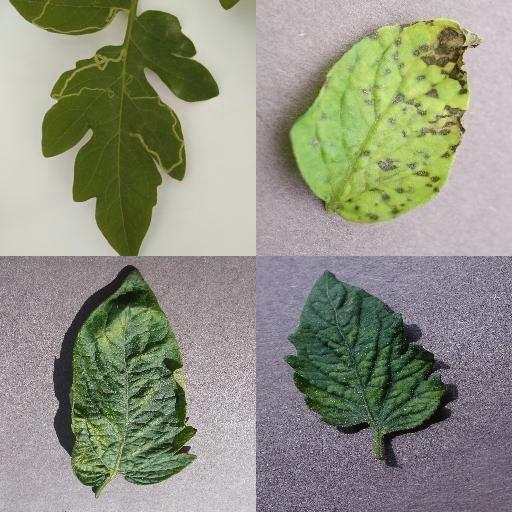Leaf Miner: (42, 10, 221, 256)
Mosaic Virus: (284, 268, 450, 434)
Septoria: (290, 19, 482, 225)
Spider Mites: (69, 265, 199, 489)
